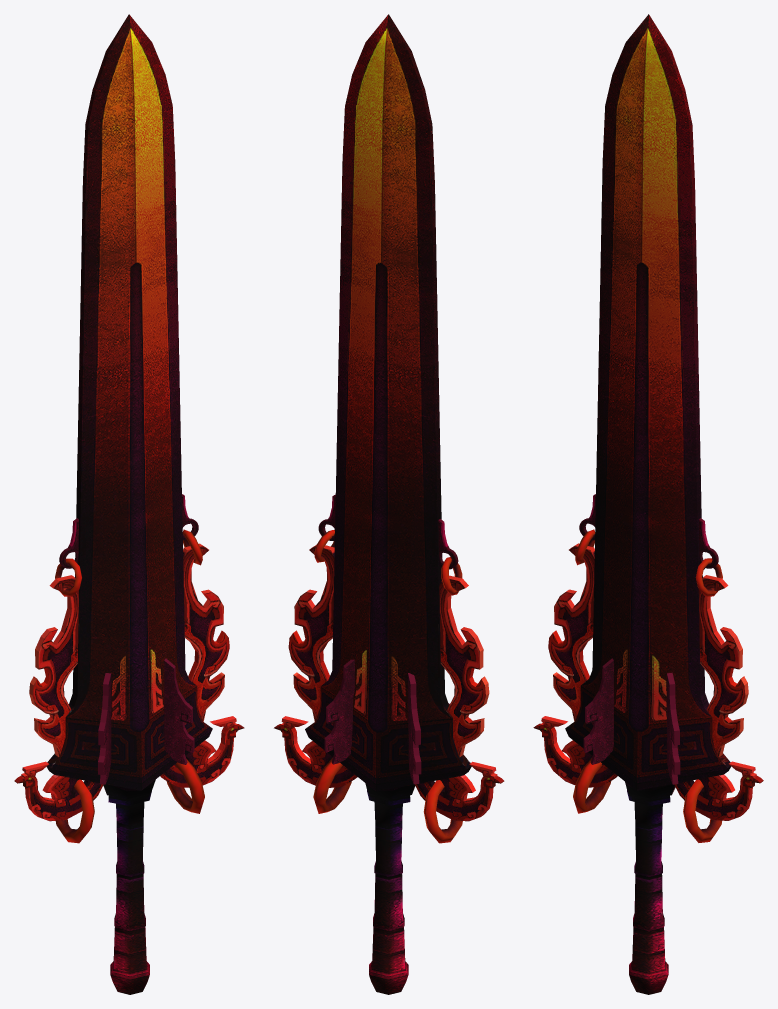
File: ZY-Sword-2.FBX
The picture shows the model from 3 angles, left to right: view 1: azimuth 30°, elevation 25°; view 2: azimuth 150°, elevation 25°; view 3: azimuth 330°, elevation 25°; orthographic projection.
Parts seen in each view (by area): view 1: ZY-Sword-2; view 2: ZY-Sword-2; view 3: ZY-Sword-2.
Boxes of the visible parts, x1=… form: ZY-Sword-2: x1=14, y1=14, x2=244, y2=994; ZY-Sword-2: x1=274, y1=14, x2=504, y2=994; ZY-Sword-2: x1=533, y1=14, x2=763, y2=994.
Bounding box in the file's own units: 35.27 × 144 × 9.88.
Materials: 1 (1 with a texture image).
